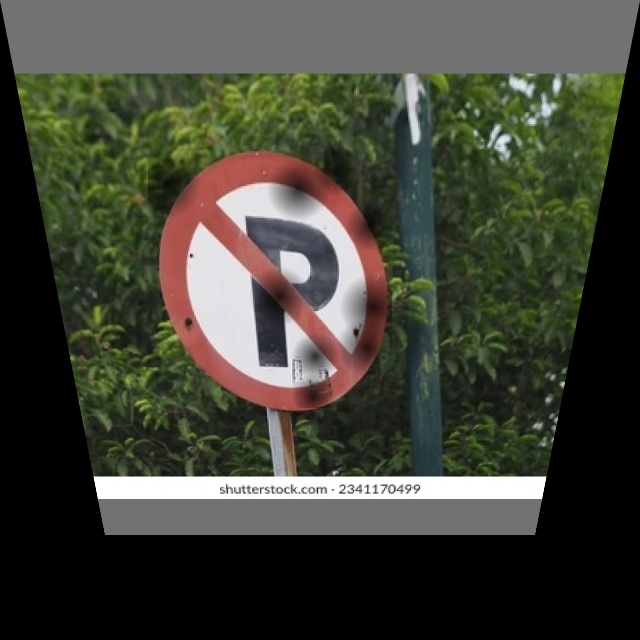No_Parking: (148, 147, 392, 408)
